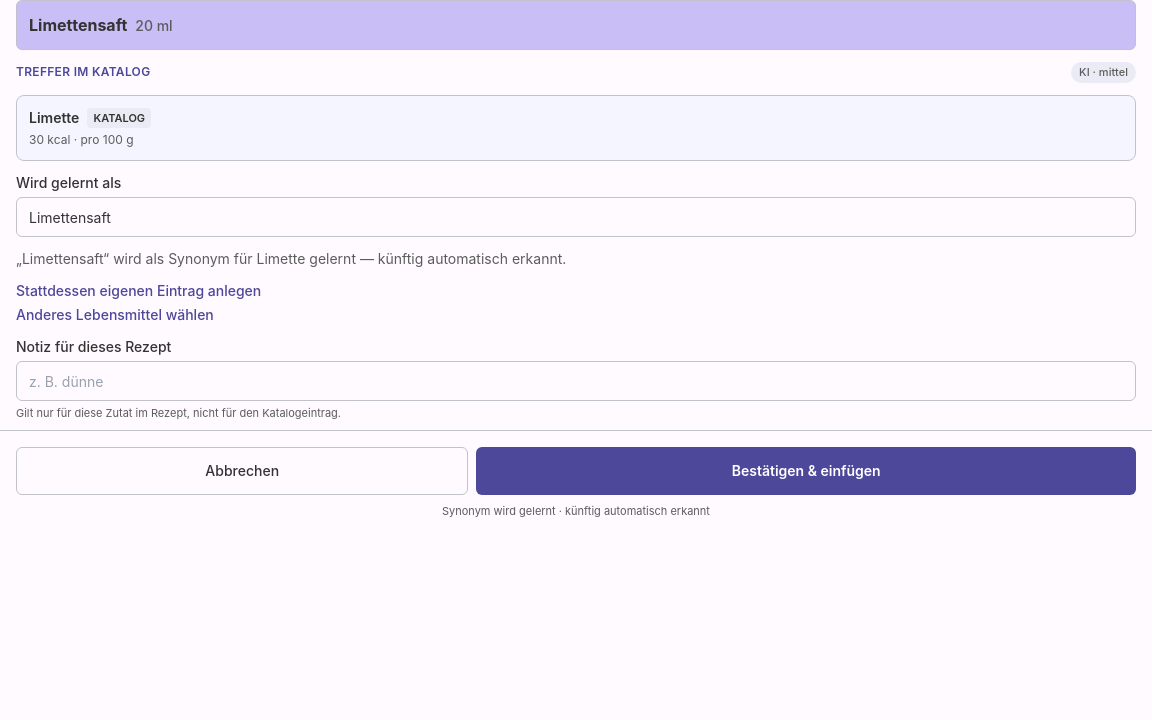
Test: rejecting a synonym proposal for an own entry › keeps edits made to the drafted entry when leaving and re-entering the override
This screenshot has width=1152, height=720.
Click the button "Stattdessen eigenen Eintrag anlegen" at (139, 291), box [16, 281, 261, 301]
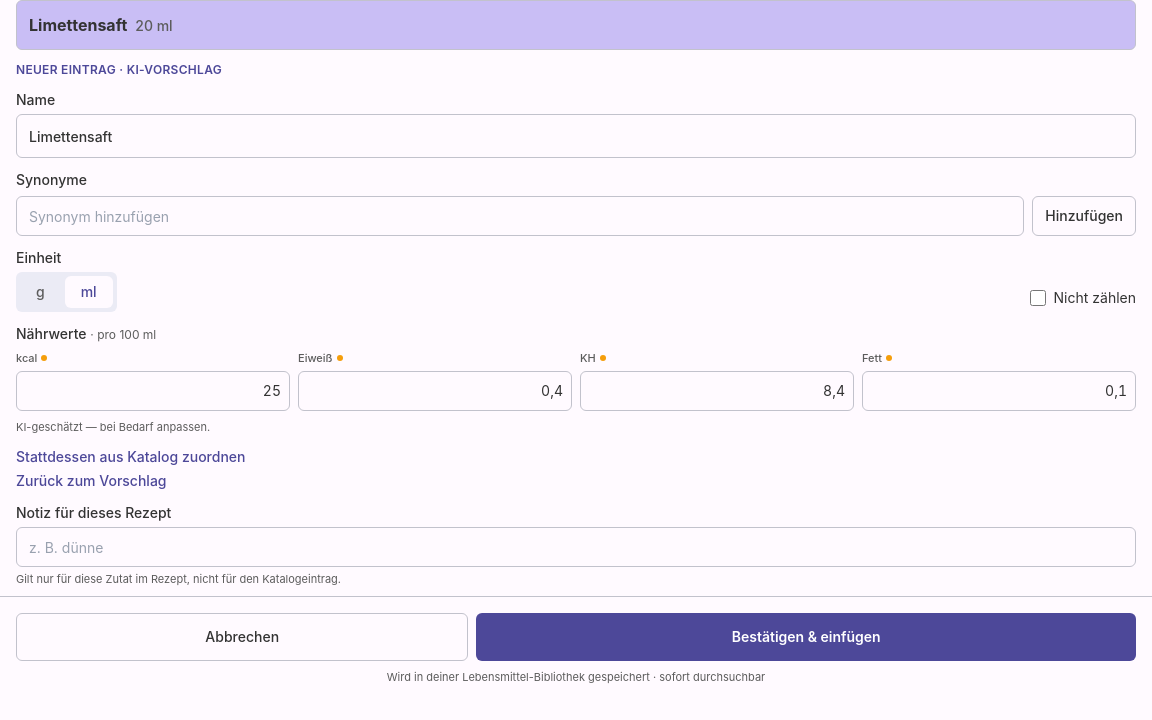
Replace the text in the field labelled "kcal" with "31" at (153, 390), box [16, 370, 290, 410]
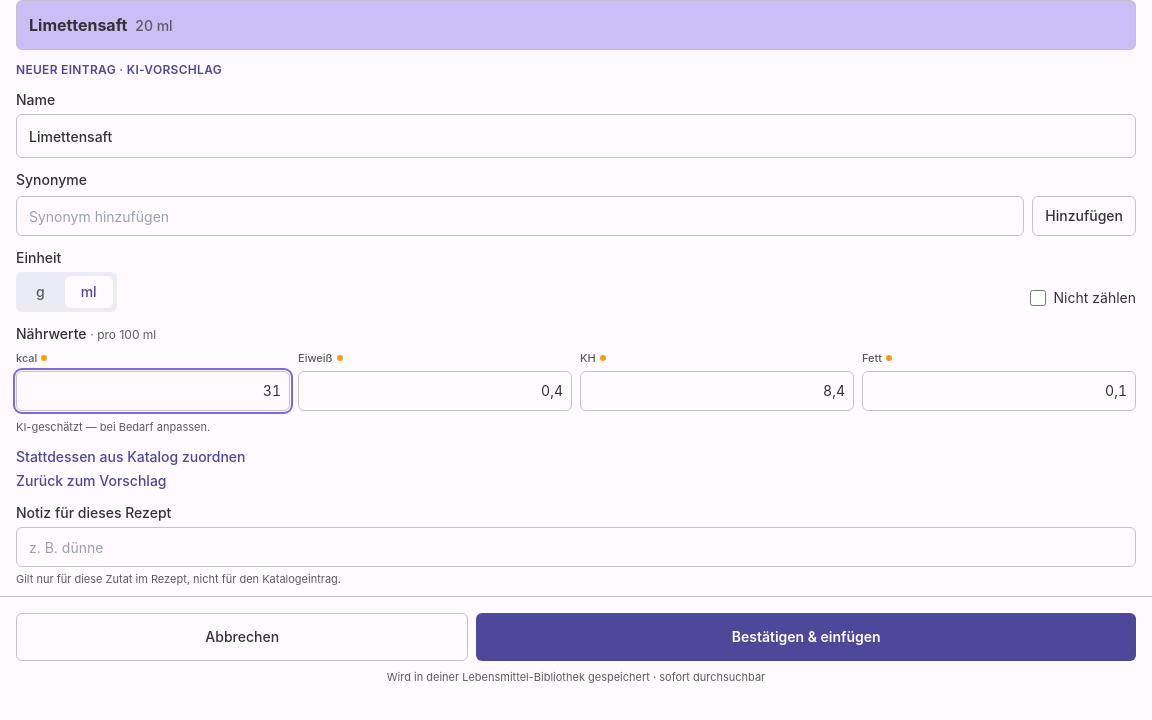
Click the button "Zurück zum Vorschlag" at (91, 481), box [16, 471, 166, 491]
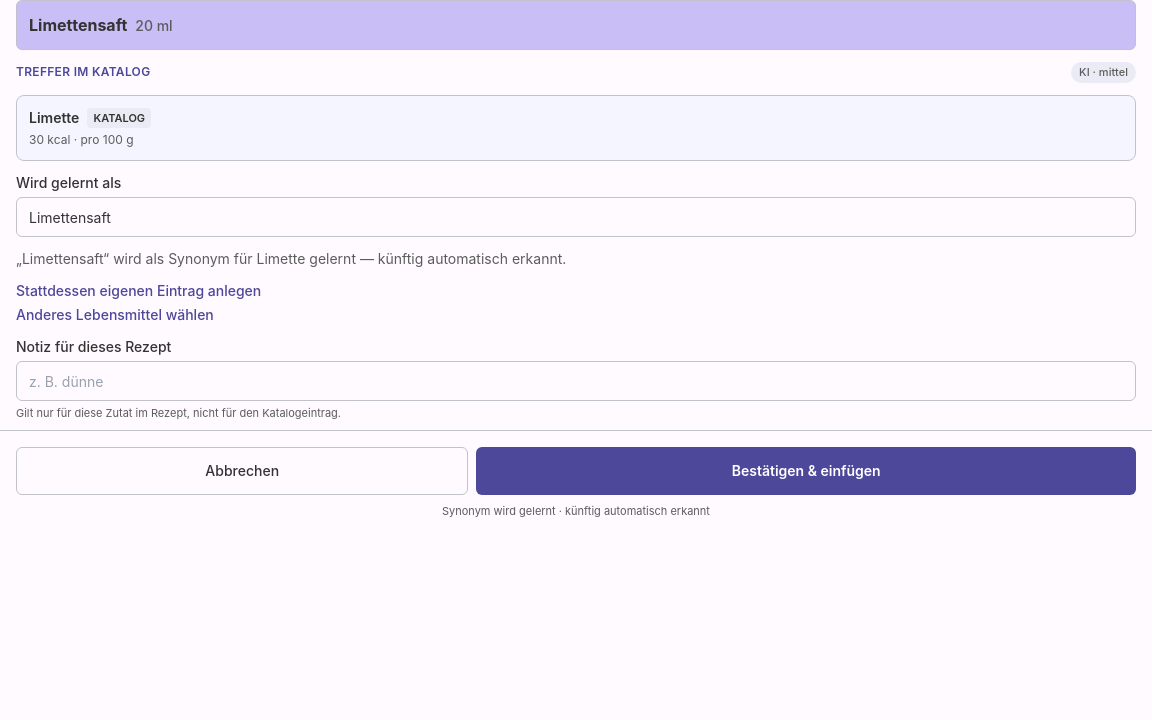
Check: the text "wird als Synonym für Limette gelernt" is shown, box [16, 250, 566, 267]
Click the button "Stattdessen eigenen Eintrag anlegen" at (139, 291), box [16, 281, 261, 301]
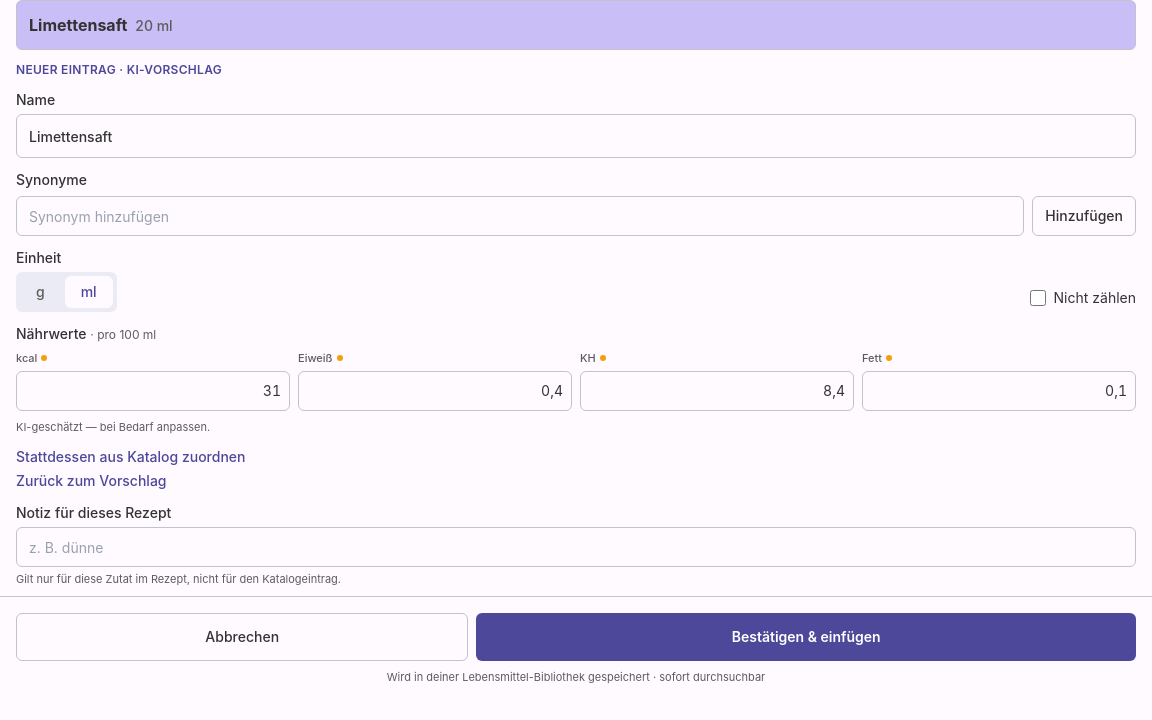
Check: the field labelled "kcal" holds "31", box [16, 370, 290, 410]
